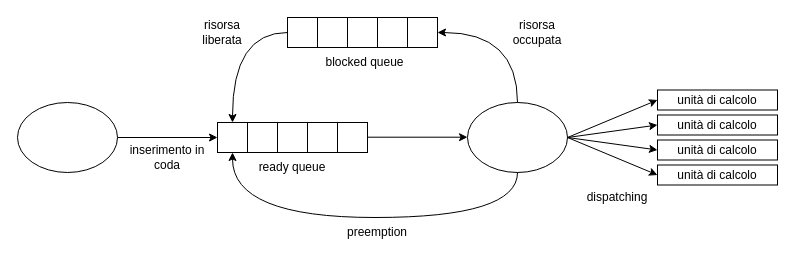
The diagram is 795 pixels wide and 265 high, and some of its shapes have lost their labels. Here are the shapes that lost their labels. From the top down, the centre of each, then its label:
At (67,137): "evento che genera il task".
At (517,137): "scheduler".
